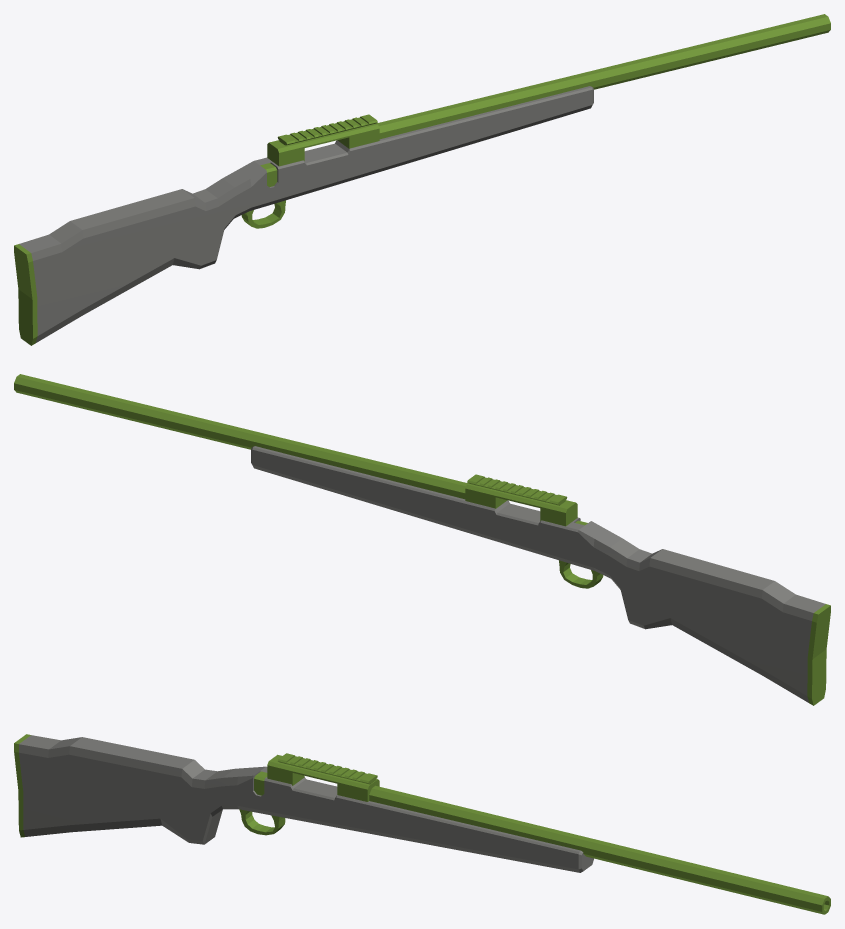
Rendered from SniperRifle3_04.fbx.
3 renders of one model, top to bottom at view 1: azimuth 30°, elevation 25°; view 2: azimuth 150°, elevation 25°; view 3: azimuth 330°, elevation 25°, orthographic.
Parts seen in each view (by area): view 1: SniperRifle3_04; view 2: SniperRifle3_04; view 3: SniperRifle3_04.
Boxes of the visible parts, x1=… form: SniperRifle3_04: x1=14, y1=14, x2=830, y2=345; SniperRifle3_04: x1=14, y1=374, x2=830, y2=705; SniperRifle3_04: x1=14, y1=734, x2=830, y2=914.
Bounding box in the file's own units: 1.22 × 0.2029 × 0.0371.
